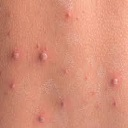Chickenpox: (36, 45, 51, 64), (35, 114, 50, 125), (109, 76, 121, 88), (11, 49, 22, 61)
